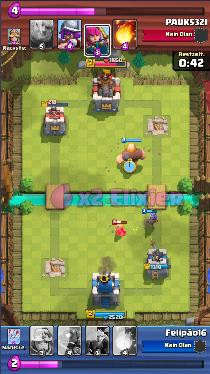ally_giant: (115, 142, 146, 168)
ally_musketeer: (146, 212, 158, 223)
enemy_mini_pekka: (114, 222, 127, 236)
